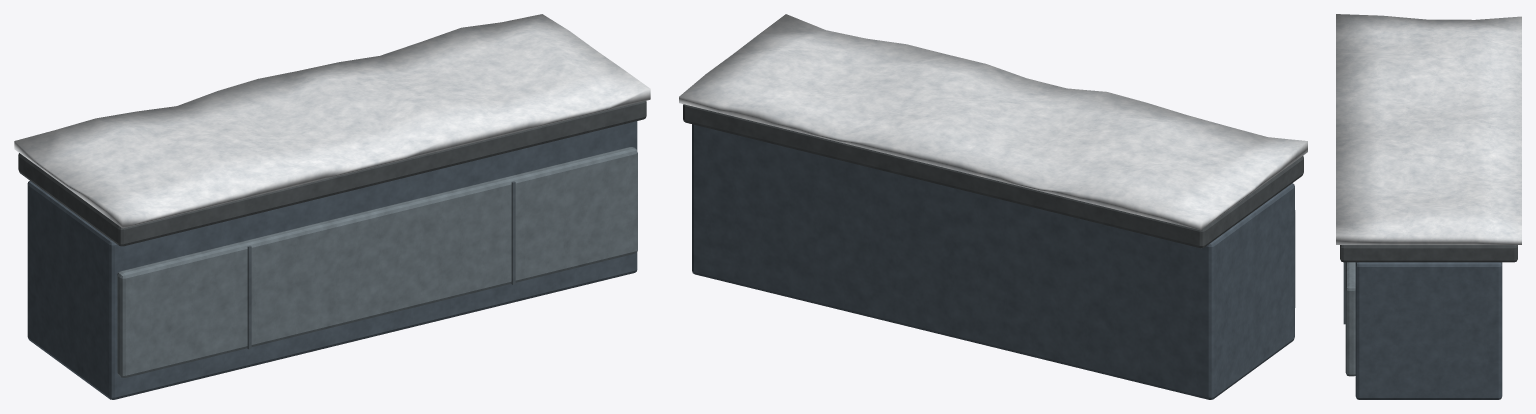
Rendered from SF_Parapet_10.glb.
3 views of the same model, side by side, from view 1: azimuth 30°, elevation 25°; view 2: azimuth 150°, elevation 25°; view 3: azimuth 270°, elevation 25° (orthographic). The views are drawn at different scales.
Parts seen in each view (by area): view 1: SF_Parapet_10; view 2: SF_Parapet_10; view 3: SF_Parapet_10.
Part boxes in pixels (<box>): SF_Parapet_10: <box>14,14,650,399</box>; SF_Parapet_10: <box>679,14,1307,399</box>; SF_Parapet_10: <box>1336,14,1521,399</box>.
Size of the model in its own units: 10 by 3.65 by 3.55.
Materials: 1 (1 with a texture image).
